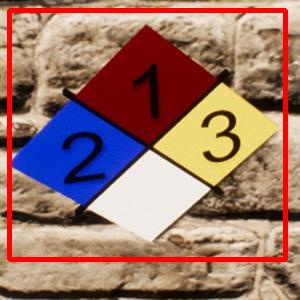nfpa: (9, 10, 285, 259)
